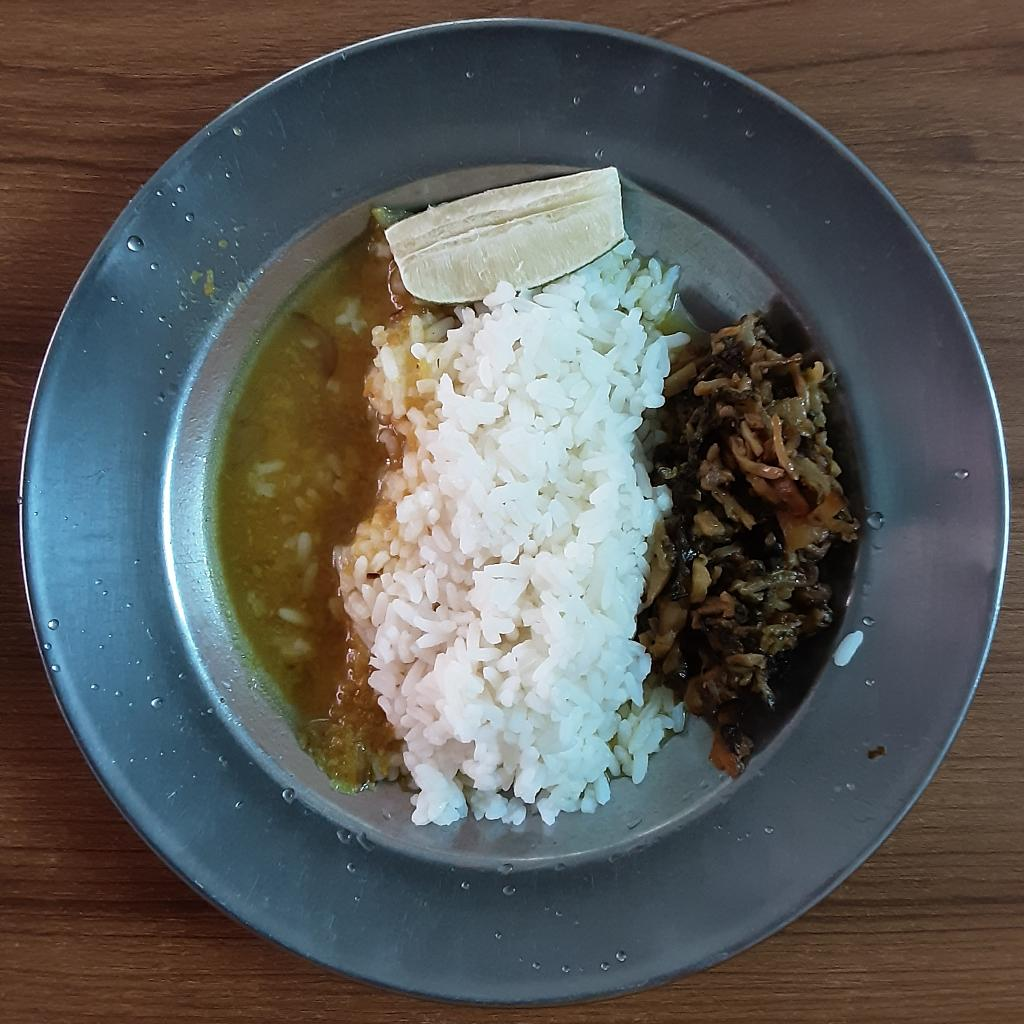daal: (217, 233, 402, 783)
korola-vaji: (638, 314, 859, 774)
lemon: (380, 166, 624, 305)
rice: (282, 236, 691, 831)
